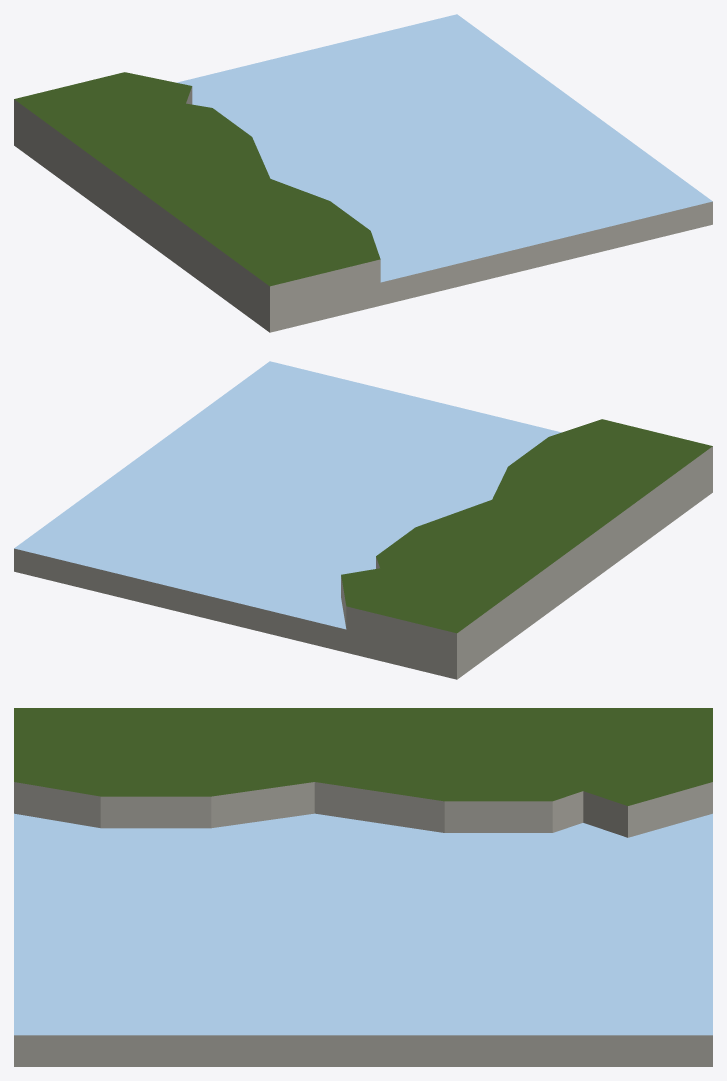
File: Terrain_Modular_Tiles_Grass_Rock_Water_Edge_Straight_01.fbx
The picture shows the model from 3 angles, top to bottom: view 1: azimuth 30°, elevation 25°; view 2: azimuth 150°, elevation 25°; view 3: azimuth 270°, elevation 25°; orthographic projection. The views are drawn at different scales.
Parts seen in each view (by area): view 1: Terrain_Modular_Tiles_Grass_Rock_Water_Edge_Straight_01; view 2: Terrain_Modular_Tiles_Grass_Rock_Water_Edge_Straight_01; view 3: Terrain_Modular_Tiles_Grass_Rock_Water_Edge_Straight_01.
Boxes of the visible parts, left/top/right/bottom form: Terrain_Modular_Tiles_Grass_Rock_Water_Edge_Straight_01: left=14, top=14, right=712, bottom=332; Terrain_Modular_Tiles_Grass_Rock_Water_Edge_Straight_01: left=14, top=361, right=712, bottom=679; Terrain_Modular_Tiles_Grass_Rock_Water_Edge_Straight_01: left=14, top=708, right=712, bottom=1066.
Size of the model in its own units: 118 by 11.81 by 118.
